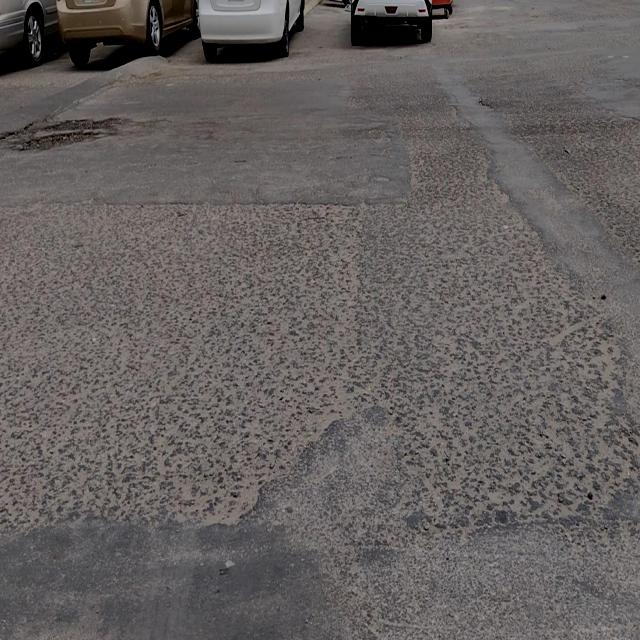Potholes: (9, 116, 115, 155)
